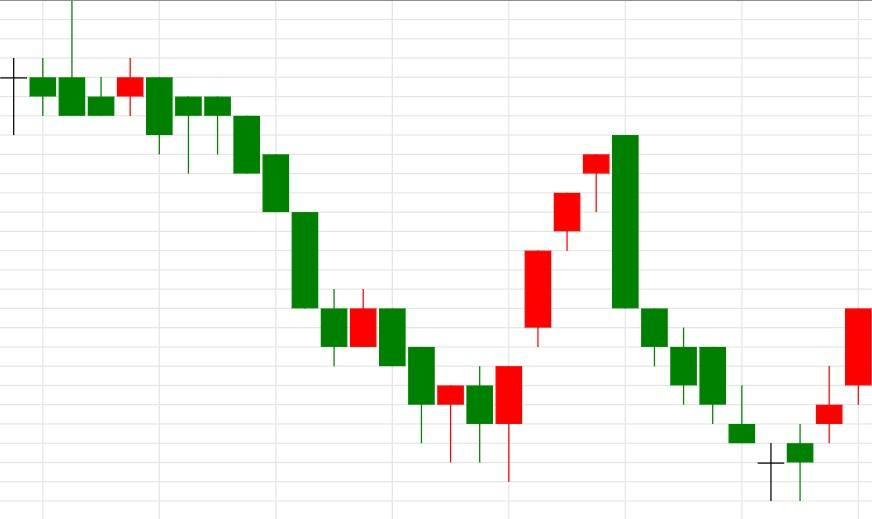three_black_crows_fall: (494, 134, 698, 479)
